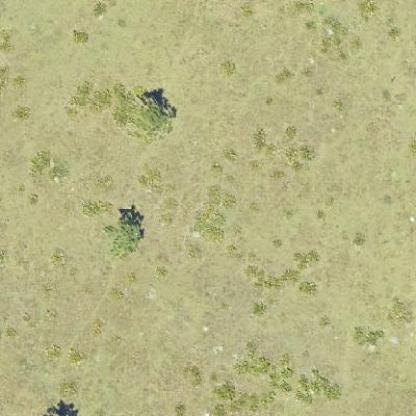tree-top: (120, 96, 176, 138), (110, 206, 147, 258)
